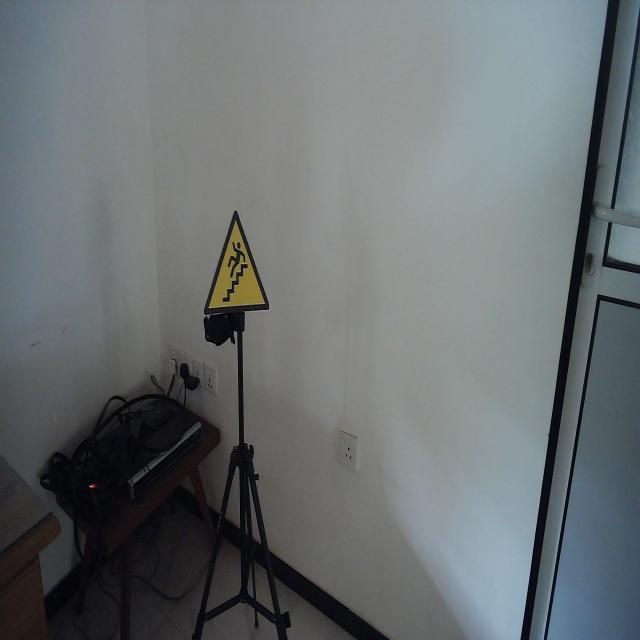stairs: (203, 208, 271, 316)
